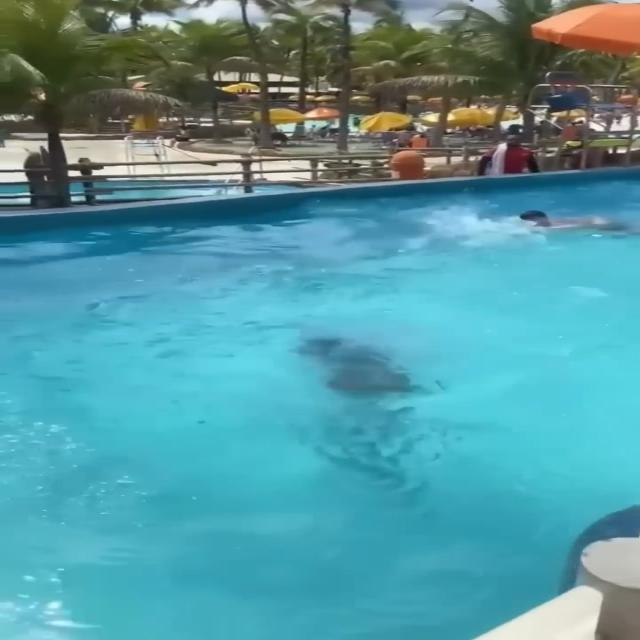Drowning: (278, 324, 424, 417)
Swimming: (498, 197, 621, 251)
